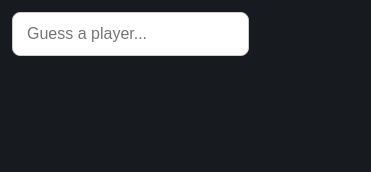
NameGuessInput › accepts name-only suggestions and sends the selected mode
The image size is (371, 172).
In the field with placeholder "Guess a player...": point(130, 34) [12,12,249,56], type "Sam"
Wait 1000 ms
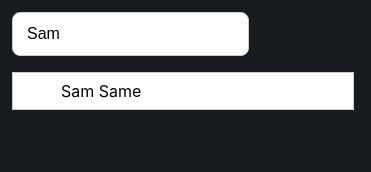
expect the text "Sam Same" is shown: met
Press the mouse on the list item "Sam Same": point(101, 91) [61,81,141,101]
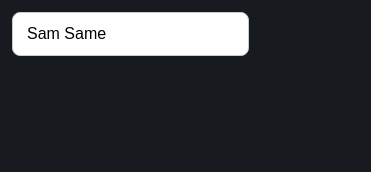
expect the field with placeholder "Guess a player..." holds "Sam Same": met, box [12,12,249,56]
